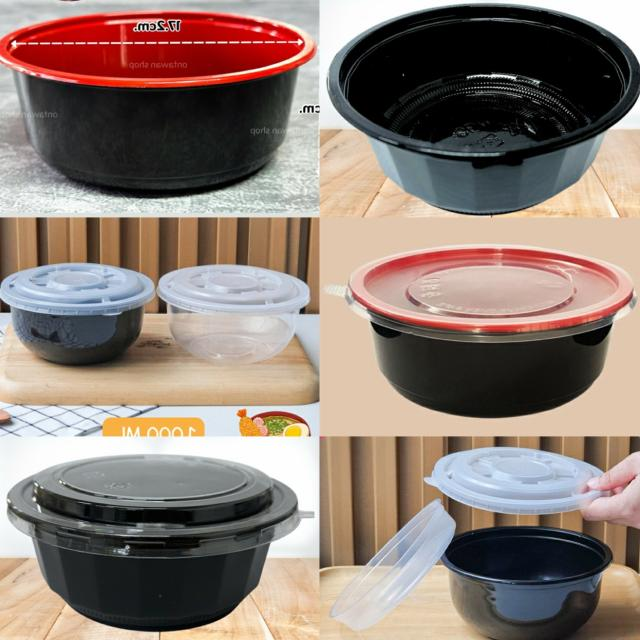plastik: (327, 4, 640, 213), (0, 11, 317, 190), (7, 455, 314, 631), (324, 245, 637, 417), (441, 527, 612, 640), (330, 500, 455, 631), (0, 263, 156, 365), (157, 264, 310, 364), (425, 446, 603, 514)
